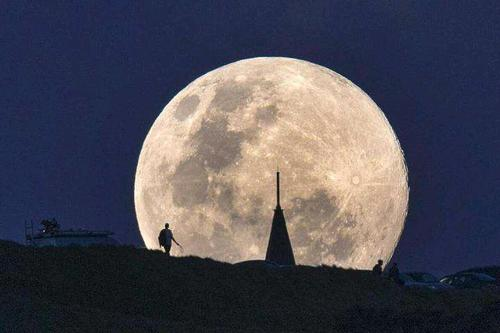moon: (131, 55, 409, 275)
